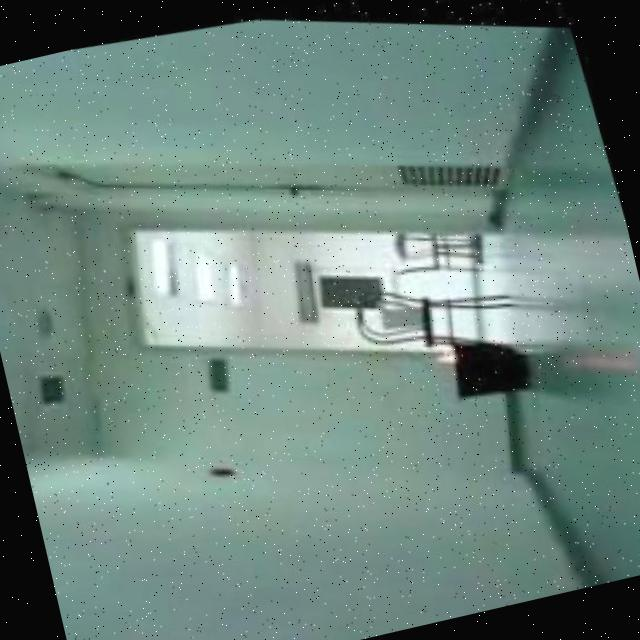fire: (431, 338, 463, 366)
